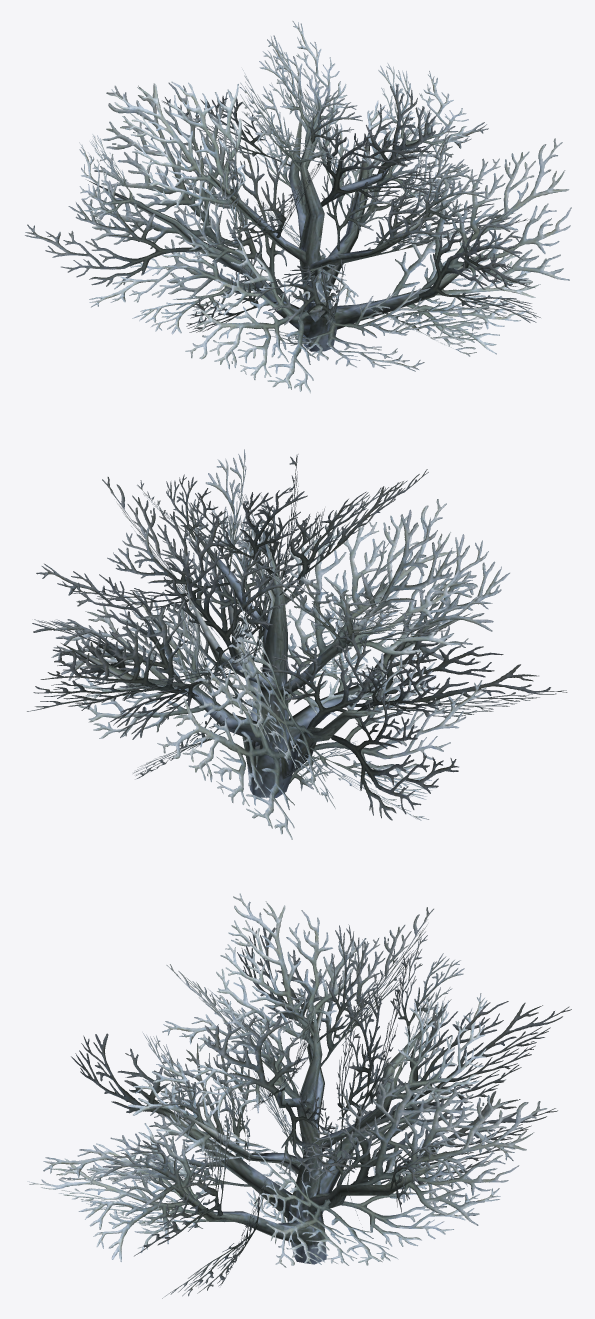
File: rzjd_xuehsu_03.FBX
The picture shows the model from 3 angles, top to bottom: view 1: azimuth 30°, elevation 25°; view 2: azimuth 150°, elevation 25°; view 3: azimuth 270°, elevation 25°; orthographic projection. The views are drawn at different scales.
Visible parts, largest first — view 1: rzjd_xuehsu_03; view 2: rzjd_xuehsu_03; view 3: rzjd_xuehsu_03.
Boxes of the visible parts, <box> form: rzjd_xuehsu_03: <box>25,21,571,393</box>; rzjd_xuehsu_03: <box>27,449,567,839</box>; rzjd_xuehsu_03: <box>27,893,571,1298</box>.
Bounding box in the file's own units: 428 × 436 × 273.
